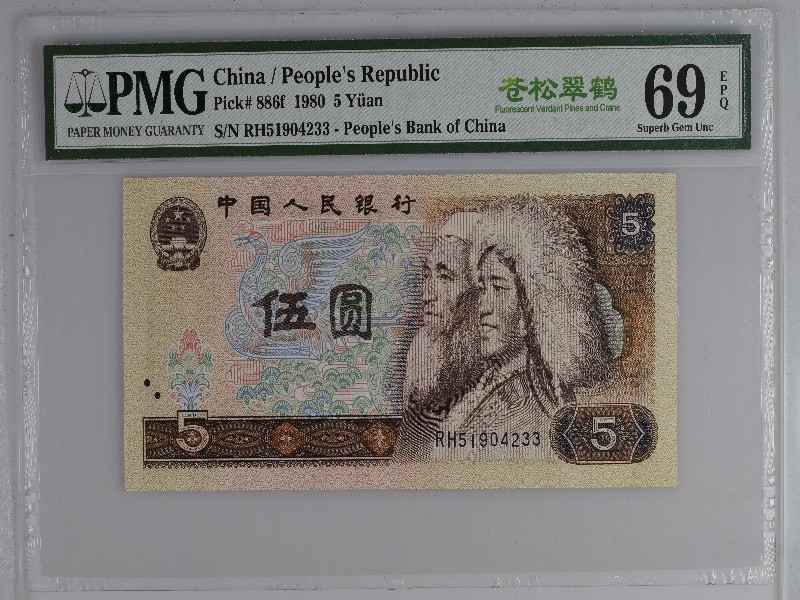papernote: (122, 170, 680, 491)
